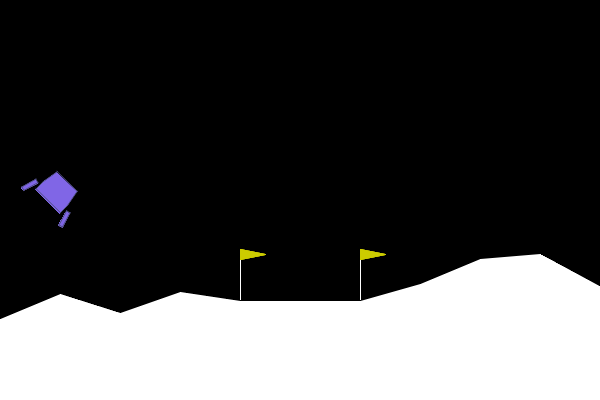lander: (19, 159, 90, 230)
